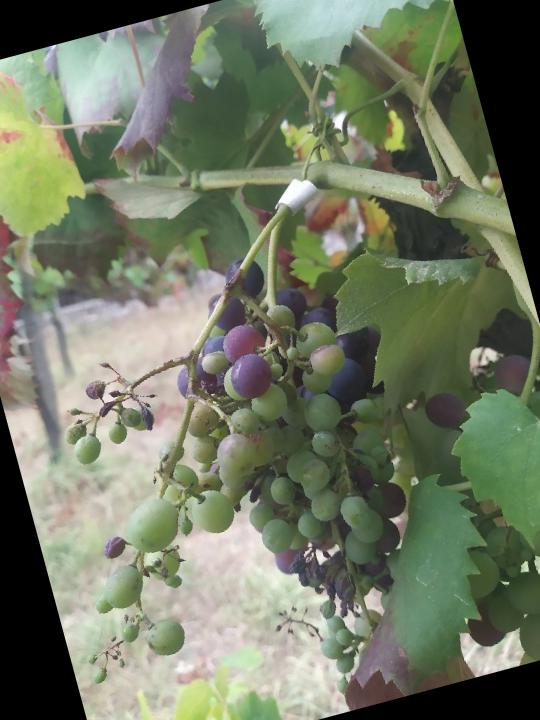grape: (0, 227, 463, 720)
